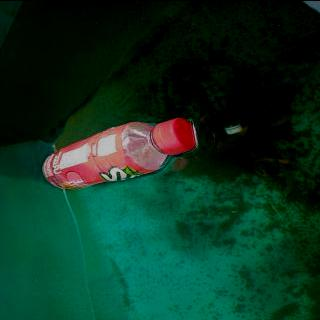bottle: (39, 116, 198, 190)
